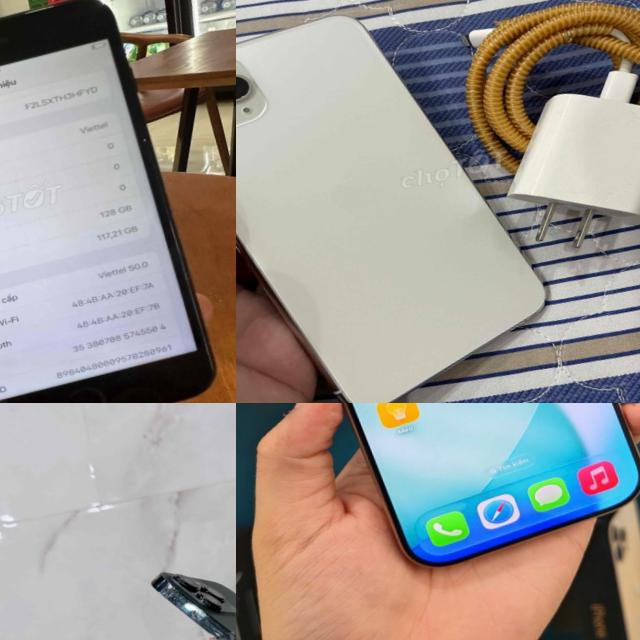scratch: (150, 568, 236, 640)
